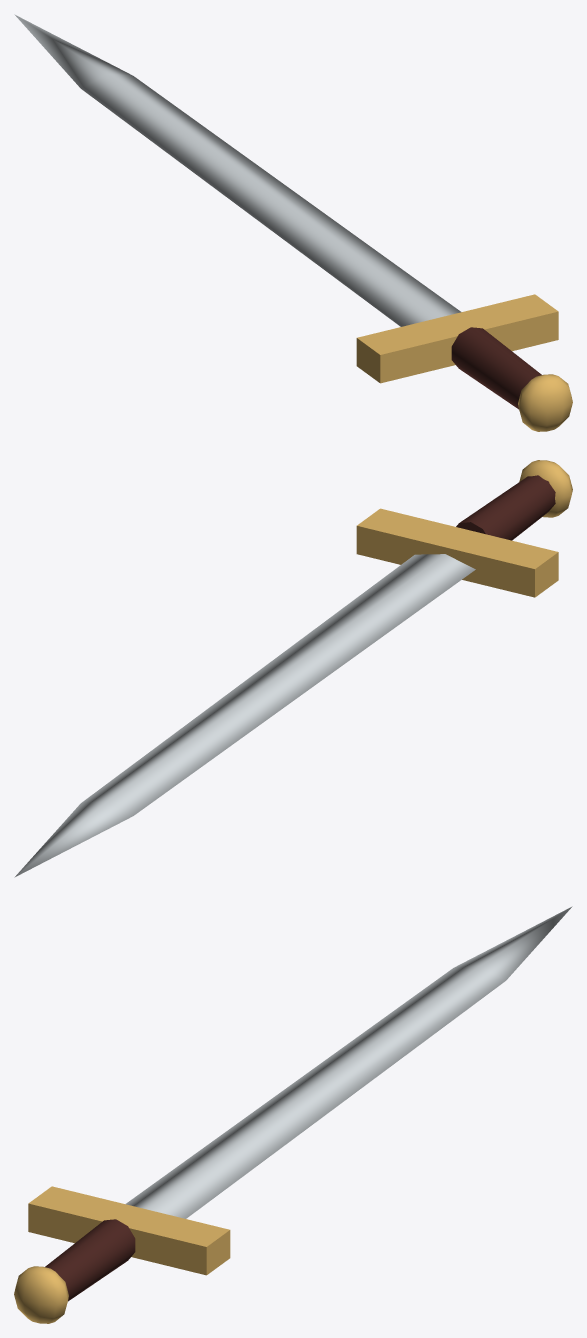
The model's file is gladius.glb.
3 renders of one model, top to bottom at view 1: azimuth 30°, elevation 25°; view 2: azimuth 150°, elevation 25°; view 3: azimuth 330°, elevation 25°, orthographic.
Visible parts, largest first — view 1: Gladius · hráčův meč; view 2: Gladius · hráčův meč; view 3: Gladius · hráčův meč.
Part boxes in pixels (x1,y1,x2,y2): Gladius · hráčův meč: (14, 14, 572, 431); Gladius · hráčův meč: (14, 460, 572, 877); Gladius · hráčův meč: (14, 906, 572, 1323).
Size of the model in its own units: 0.21 by 0.062 by 1.1.
